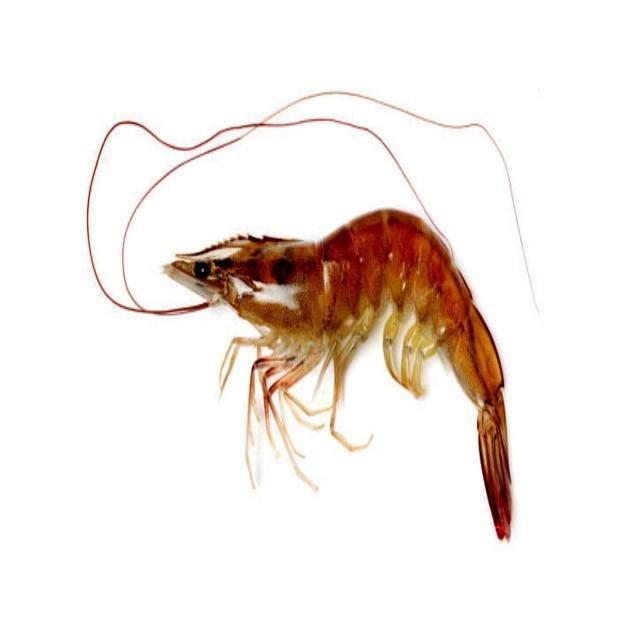shrimp: (164, 210, 511, 538)
